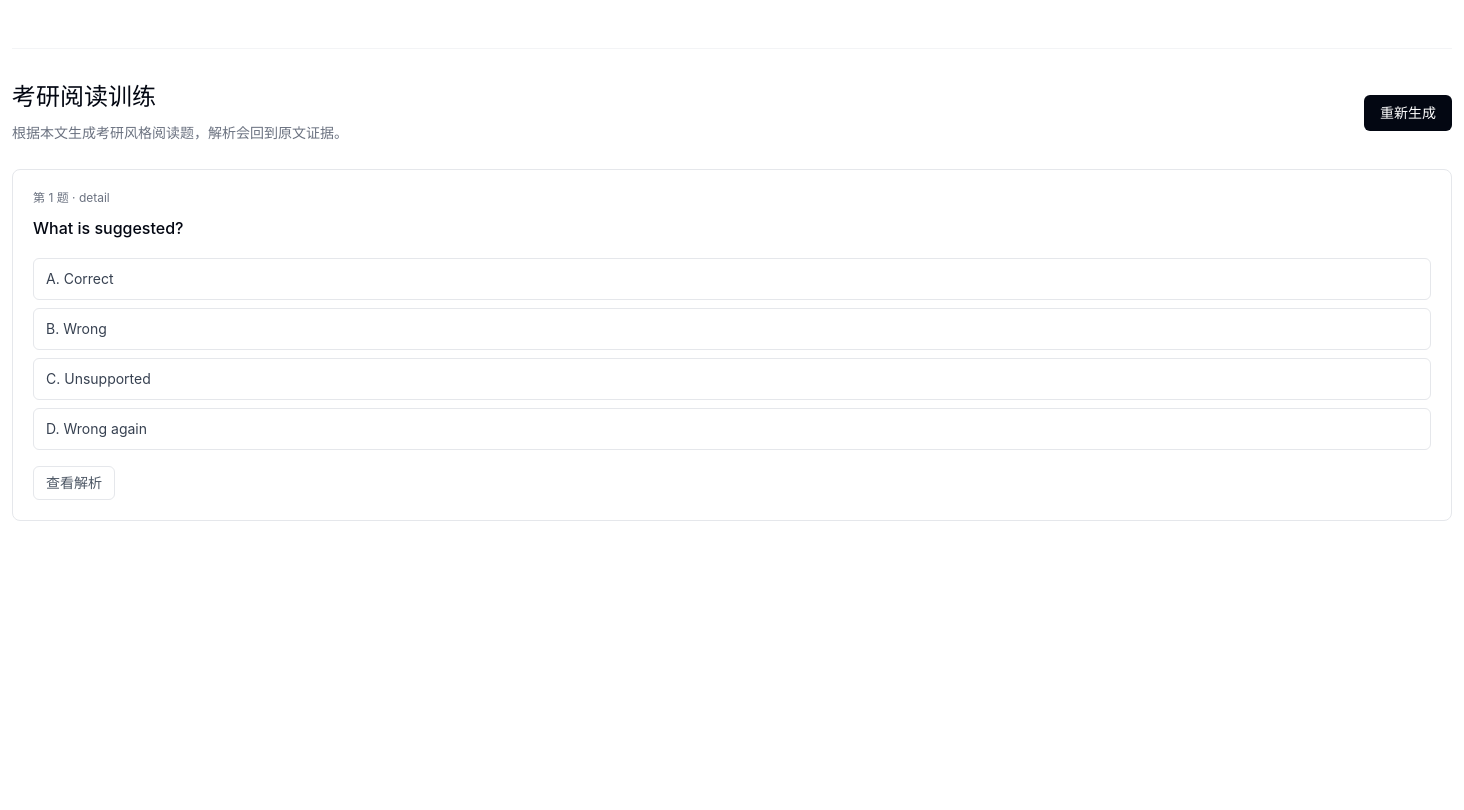
KaoyanTrainingPanel › lets the user answer and reveal explanation
Click the button "A. Correct": (89, 278) 33,258 -> 1431,300
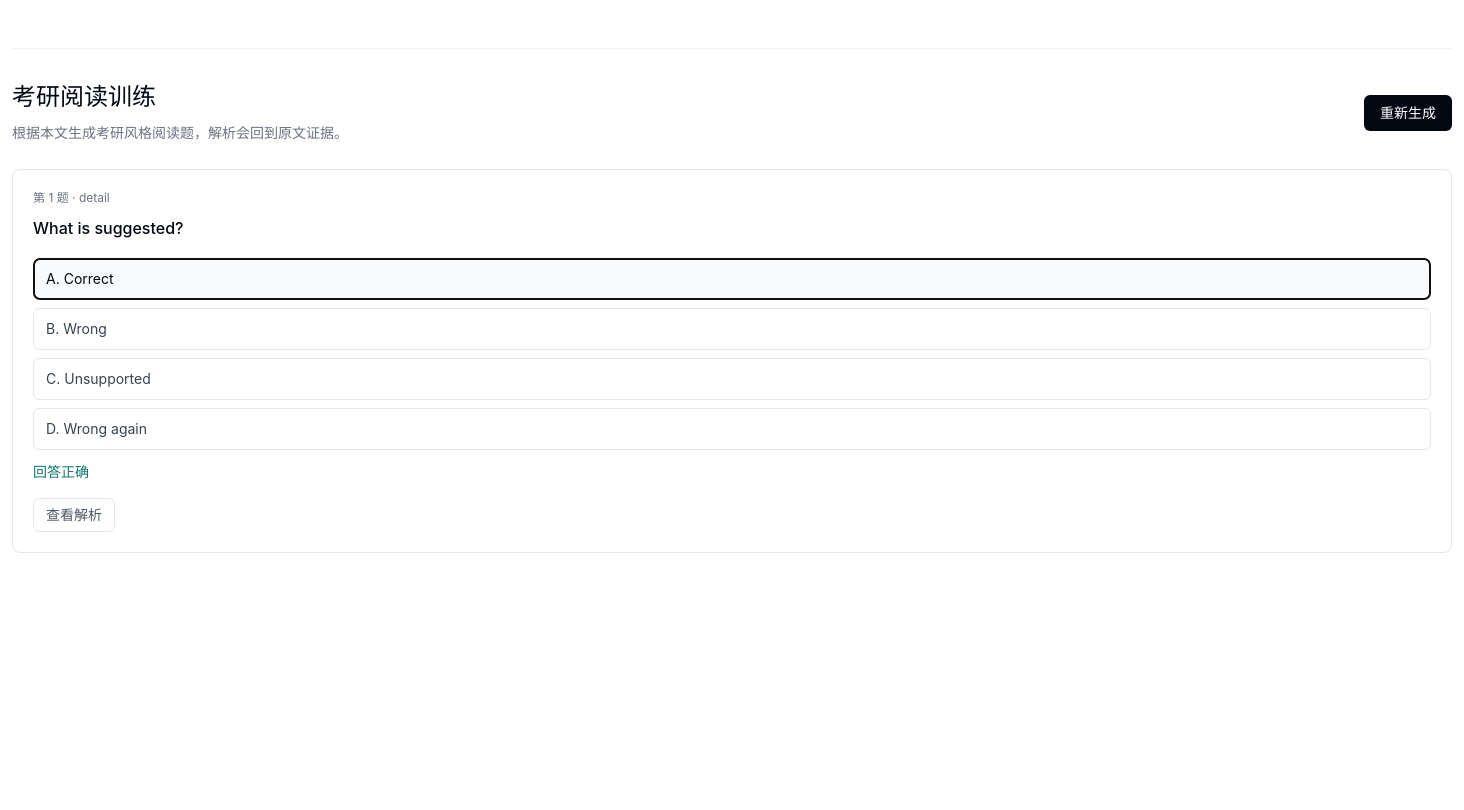
Click the button "查看解析": (74, 515) 33,498 -> 115,532
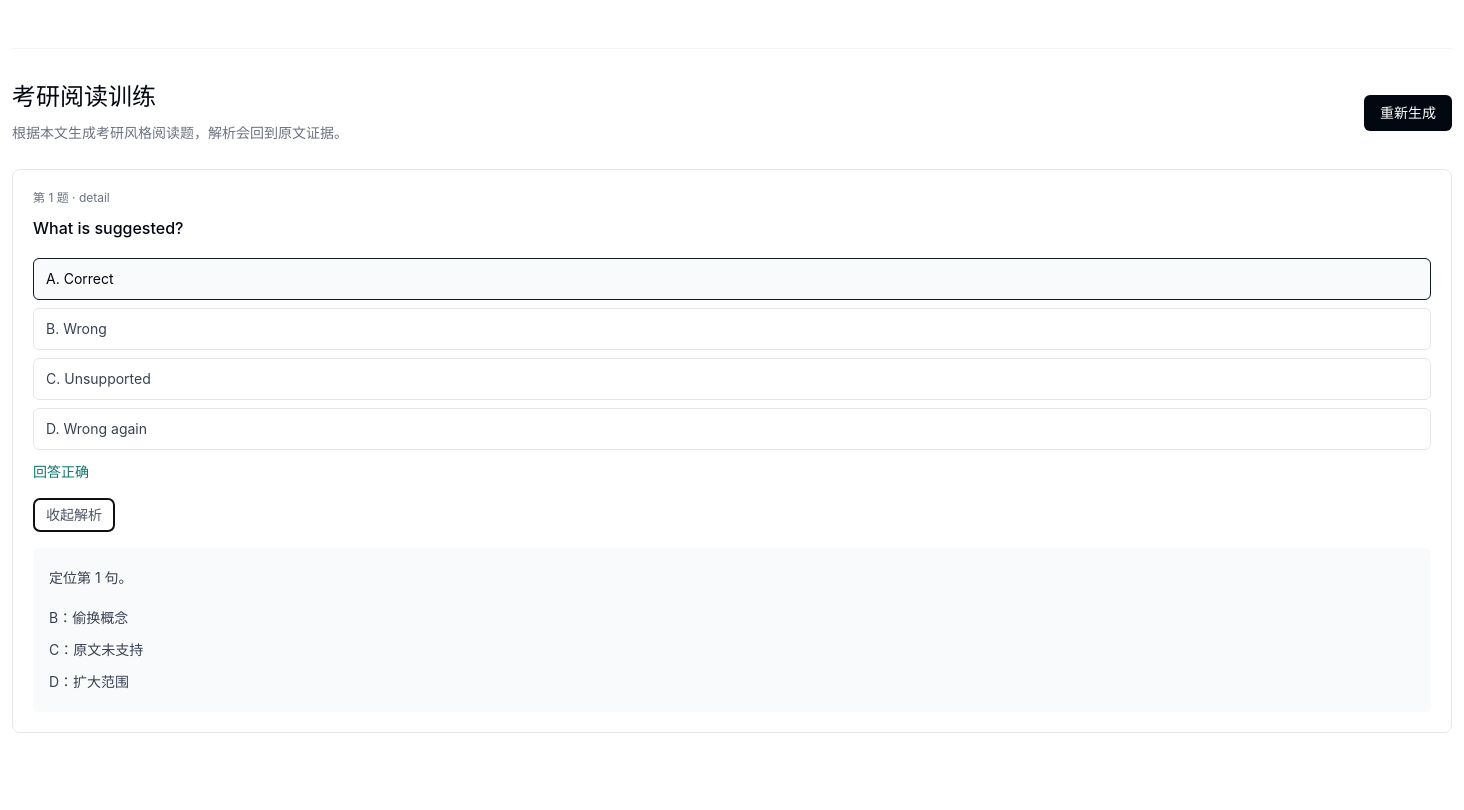
Now the text "回答正确" is shown, box 33,463 -> 89,480
Now the text "定位第 1 句。" is shown, box 49,569 -> 133,586
